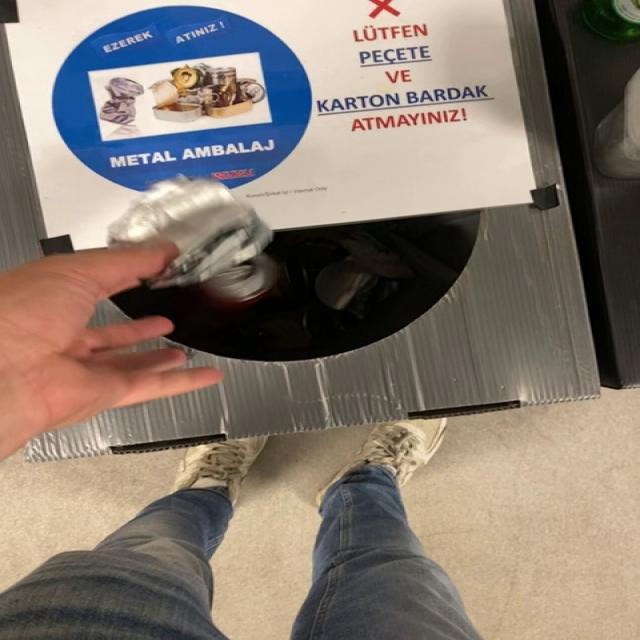bin: (1, 0, 600, 462)
metal: (200, 254, 277, 304)
